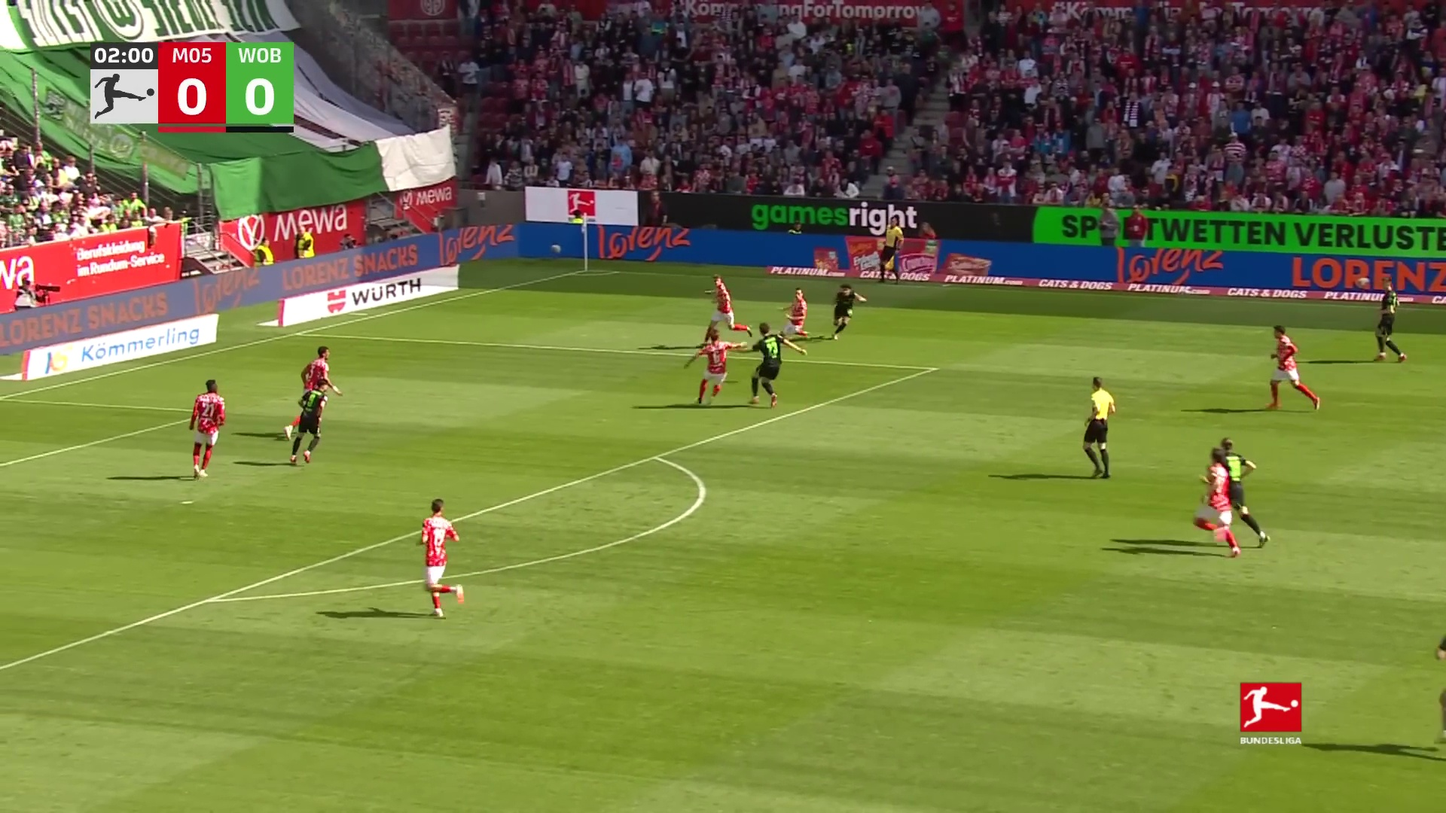player: (414, 497, 468, 619), (1215, 437, 1270, 553), (1193, 444, 1244, 556), (283, 345, 341, 442), (745, 321, 808, 409), (1264, 323, 1320, 414), (686, 329, 750, 407), (696, 274, 753, 348), (186, 379, 227, 480), (288, 378, 330, 467), (1370, 276, 1408, 363), (1428, 623, 1446, 751), (830, 283, 867, 341), (778, 287, 809, 341)
referee: (1080, 375, 1119, 479), (875, 216, 905, 285)
